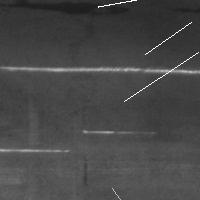scratches: (119, 47, 200, 106), (3, 61, 200, 80), (140, 17, 196, 59), (107, 183, 158, 200), (1, 144, 70, 156), (81, 126, 155, 135), (93, 0, 147, 11), (79, 152, 91, 189)
